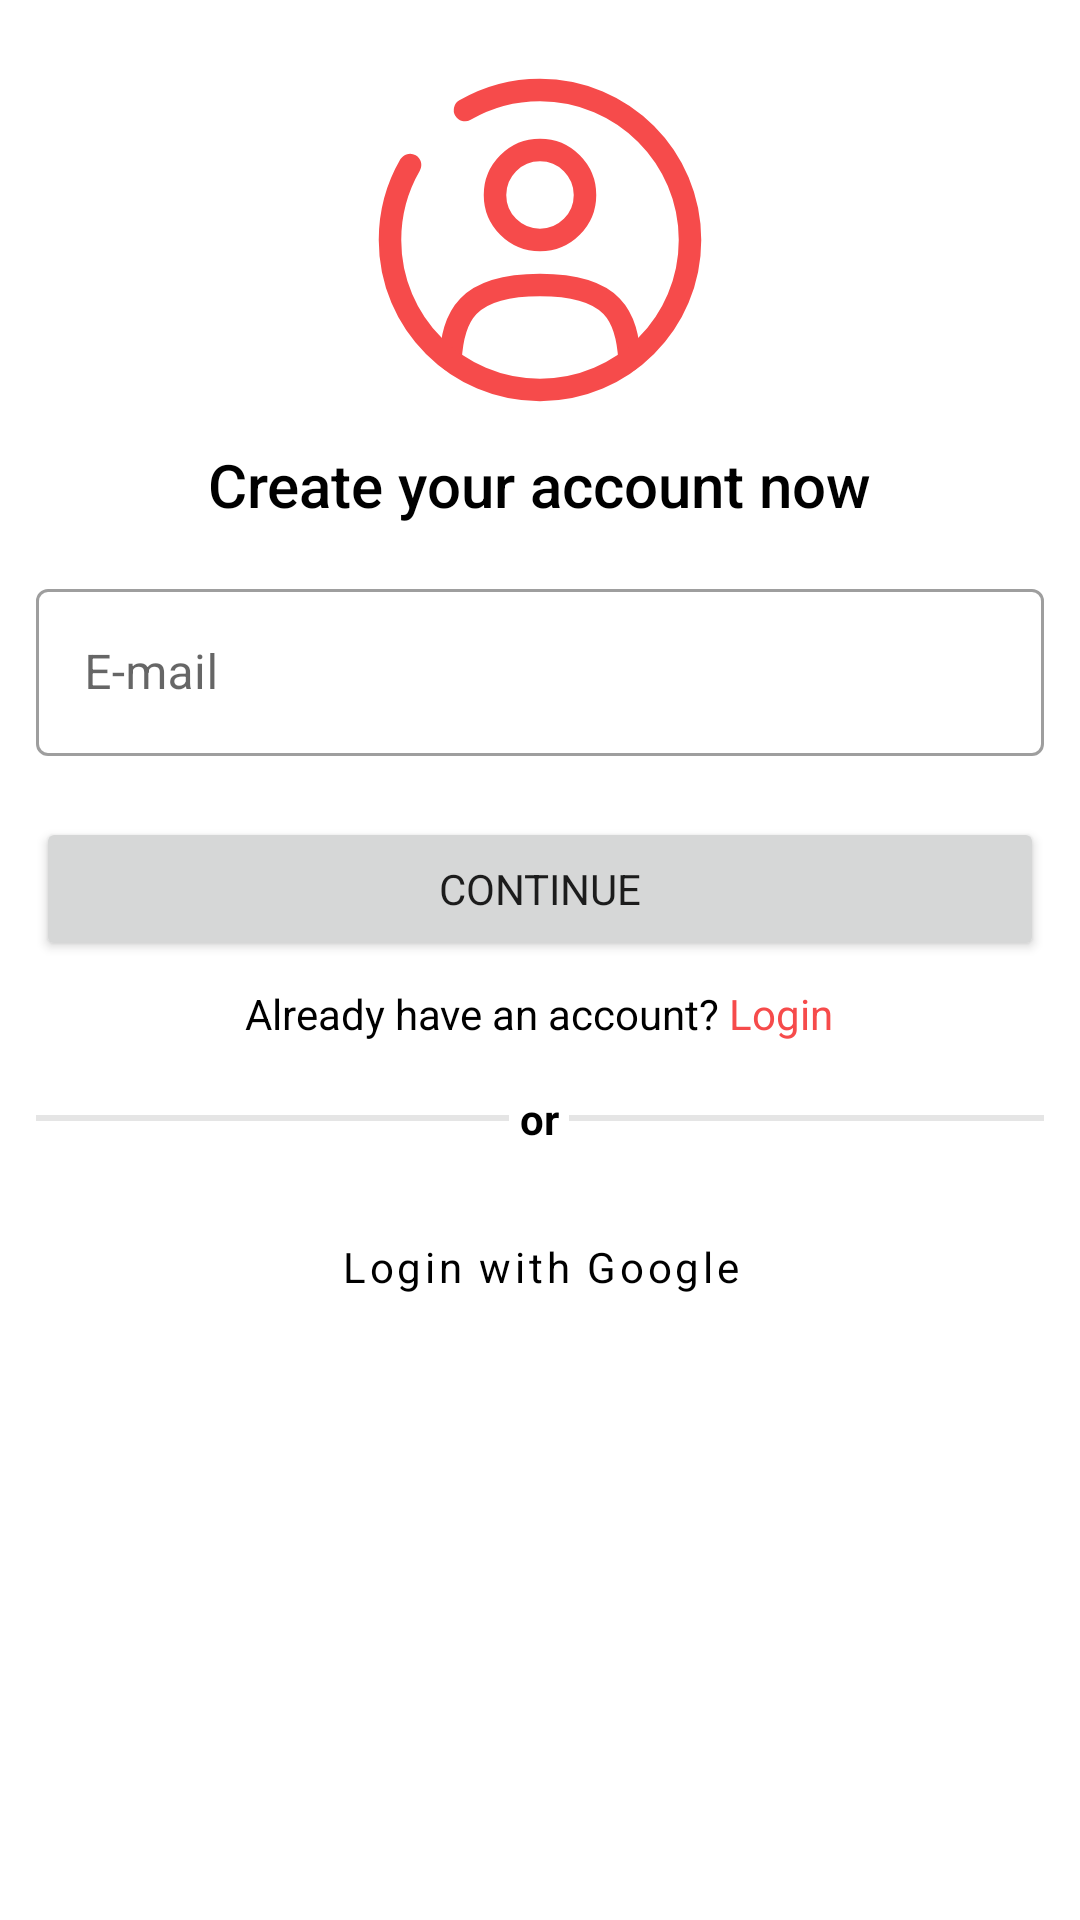

Icon click points for this 1080*1920 phone screenshot, format point (x, y):
user: point (540, 240)
